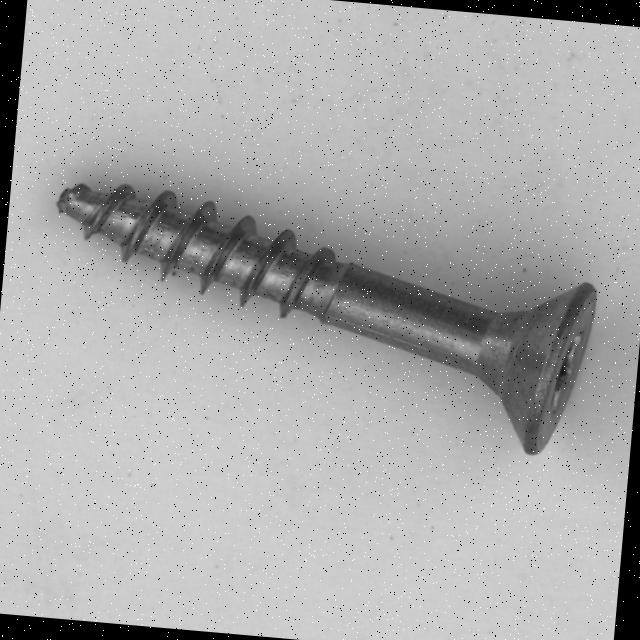manipulated_front: (30, 172, 94, 221)
